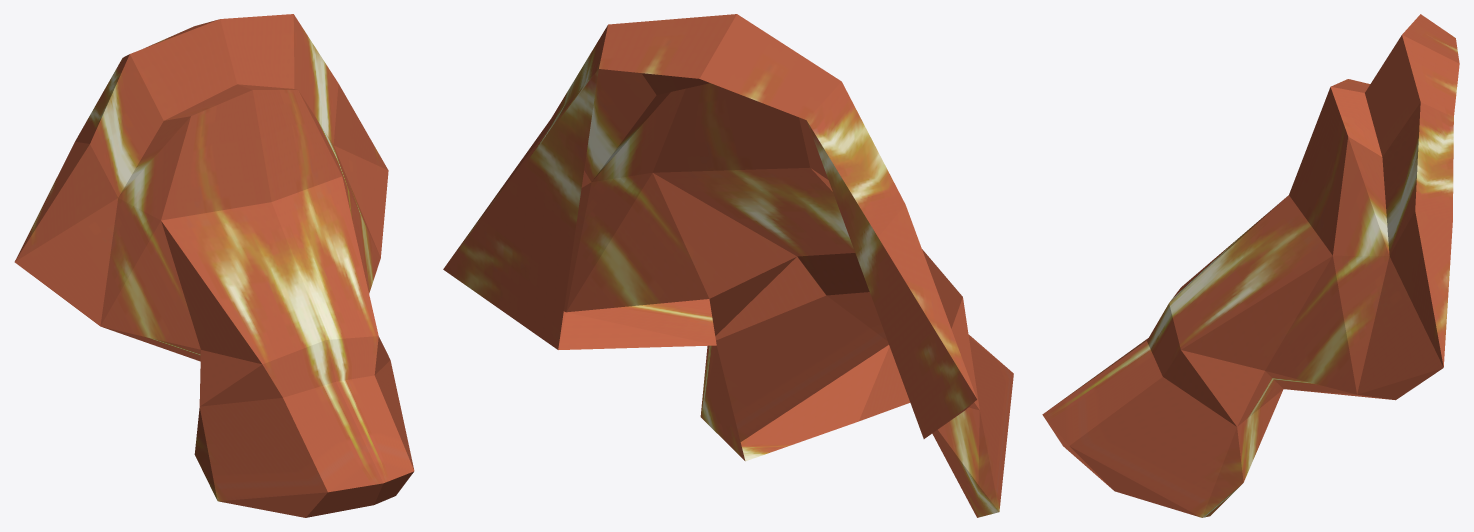
3 views of the same model, side by side, from view 1: azimuth 30°, elevation 25°; view 2: azimuth 150°, elevation 25°; view 3: azimuth 270°, elevation 25° (orthographic). The views are drawn at different scales.
Parts seen in each view (by area): view 1: Object01; view 2: Object01; view 3: Object01.
Boxes of the visible parts, left/top/right/bottom form: Object01: left=14, top=14, right=414, bottom=517; Object01: left=443, top=14, right=1013, bottom=517; Object01: left=1042, top=14, right=1459, bottom=517.
Bounding box in the file's own units: 46.11 × 40.4 × 46.78.
